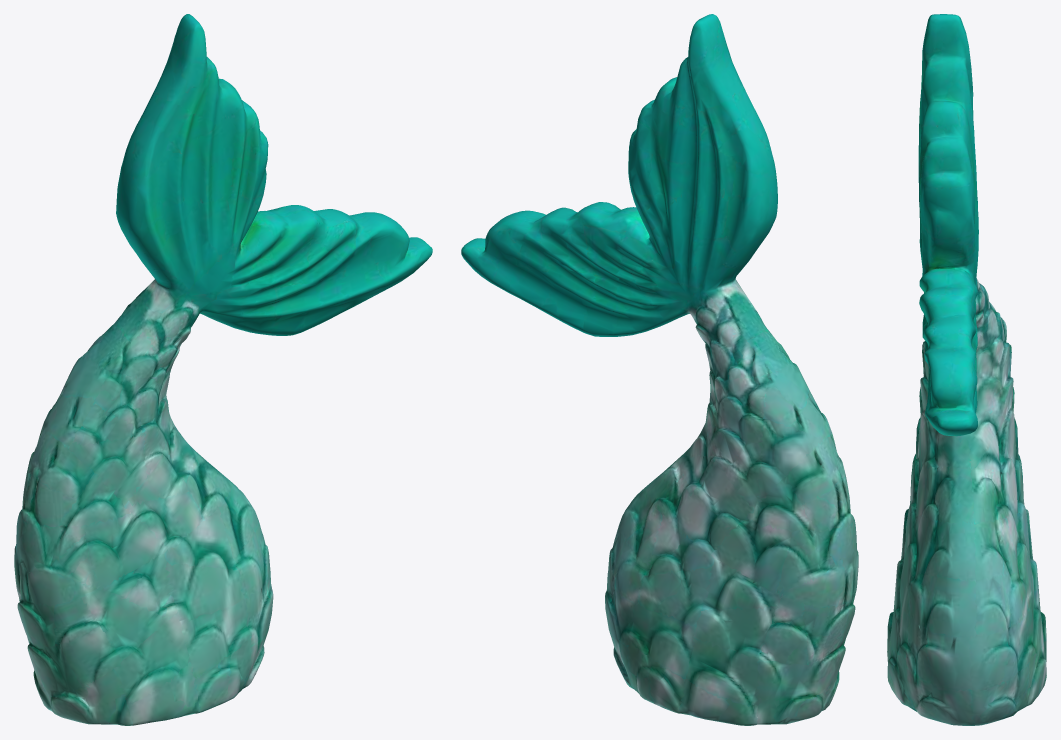
The picture shows the model from 3 angles, left to right: view 1: azimuth 30°, elevation 25°; view 2: azimuth 150°, elevation 25°; view 3: azimuth 270°, elevation 25°; orthographic projection. The views are drawn at different scales.
Bounding box in the file's own units: 1.19 × 1.9 × 0.4051.
1 material, 1 textured.
